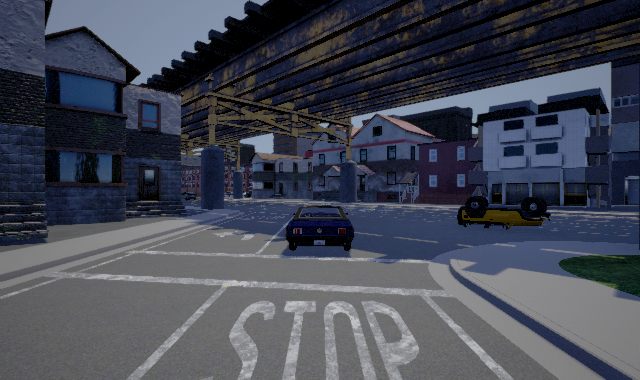vehicle: (457, 196, 551, 230), (285, 205, 354, 251)
